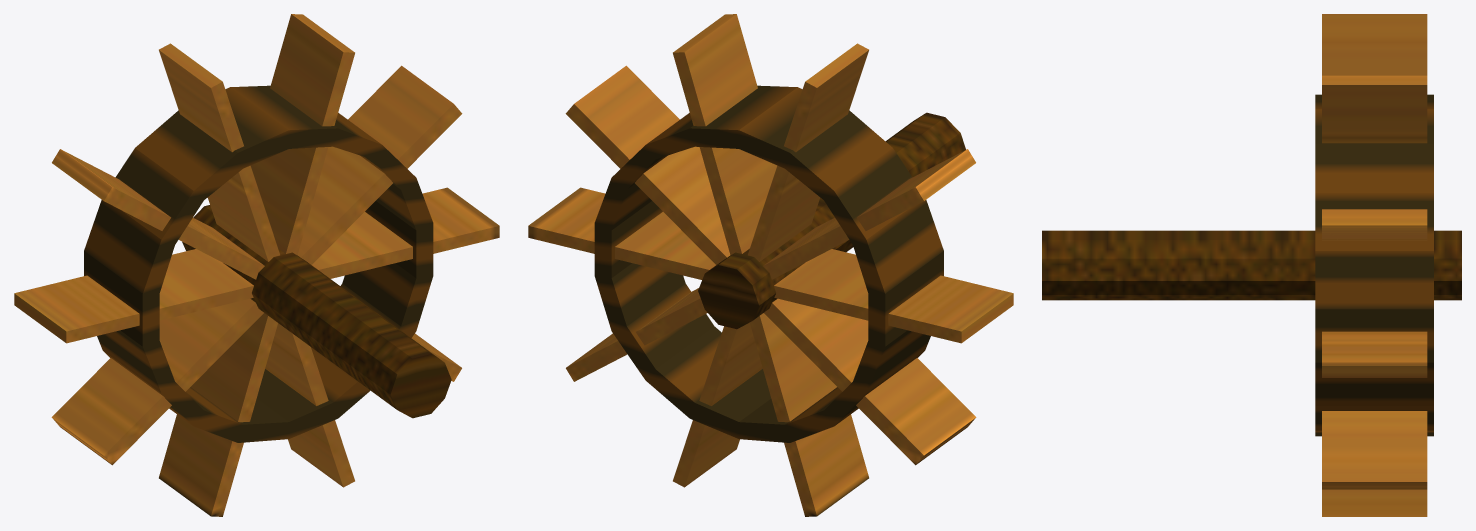
The model's file is Wwheel.glb.
The picture shows the model from 3 angles, left to right: view 1: azimuth 30°, elevation 25°; view 2: azimuth 150°, elevation 25°; view 3: azimuth 270°, elevation 25°; orthographic projection.
Parts seen in each view (by area): view 1: Wwheel; view 2: Wwheel; view 3: Wwheel.
Part boxes in pixels (<box>): Wwheel: <box>14,14,499,516</box>; Wwheel: <box>528,14,1013,516</box>; Wwheel: <box>1042,14,1461,516</box>.
Bounding box in the file's own units: 256 × 245 × 213.
Materials: 1 (1 with a texture image).
